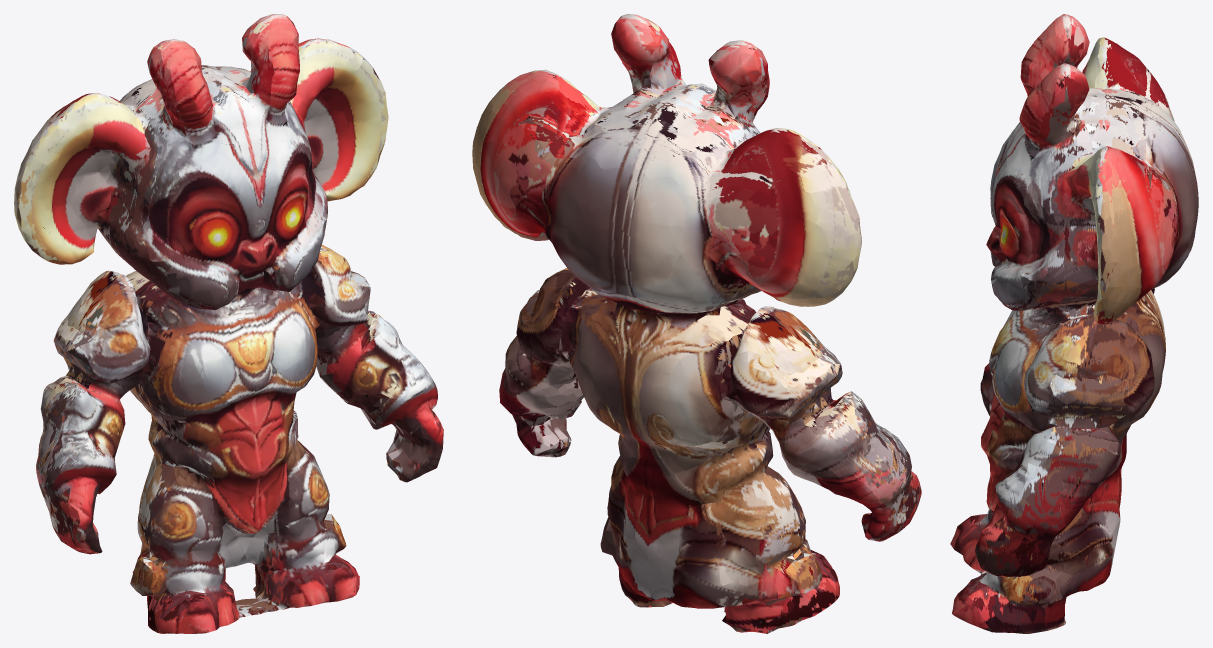
The model's file is charger.fbx.
3 views of the same model, side by side, from view 1: azimuth 30°, elevation 25°; view 2: azimuth 150°, elevation 25°; view 3: azimuth 270°, elevation 25° (orthographic). The views are drawn at different scales.
Visible parts, largest first — view 1: geometry_0; view 2: geometry_0; view 3: geometry_0.
Boxes of the visible parts, <box> form: geometry_0: <box>14,14,443,633</box>; geometry_0: <box>472,14,921,633</box>; geometry_0: <box>950,14,1198,633</box>.
Size of the model in its own units: 68 by 95.84 by 38.6.
Materials: 1 (1 with a texture image).
